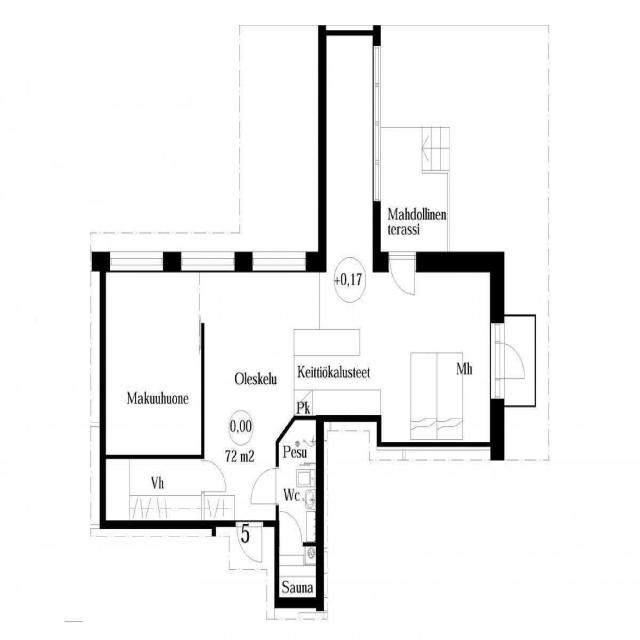door: (484, 332, 534, 391), (386, 251, 422, 300), (248, 465, 280, 507), (236, 520, 264, 565), (277, 509, 305, 548), (203, 459, 227, 492)
window: (364, 41, 388, 209), (105, 245, 170, 274), (248, 247, 312, 275), (178, 248, 238, 272)
zone: (200, 266, 492, 443), (102, 266, 200, 458), (99, 458, 214, 524), (277, 418, 319, 543), (277, 544, 318, 602)
